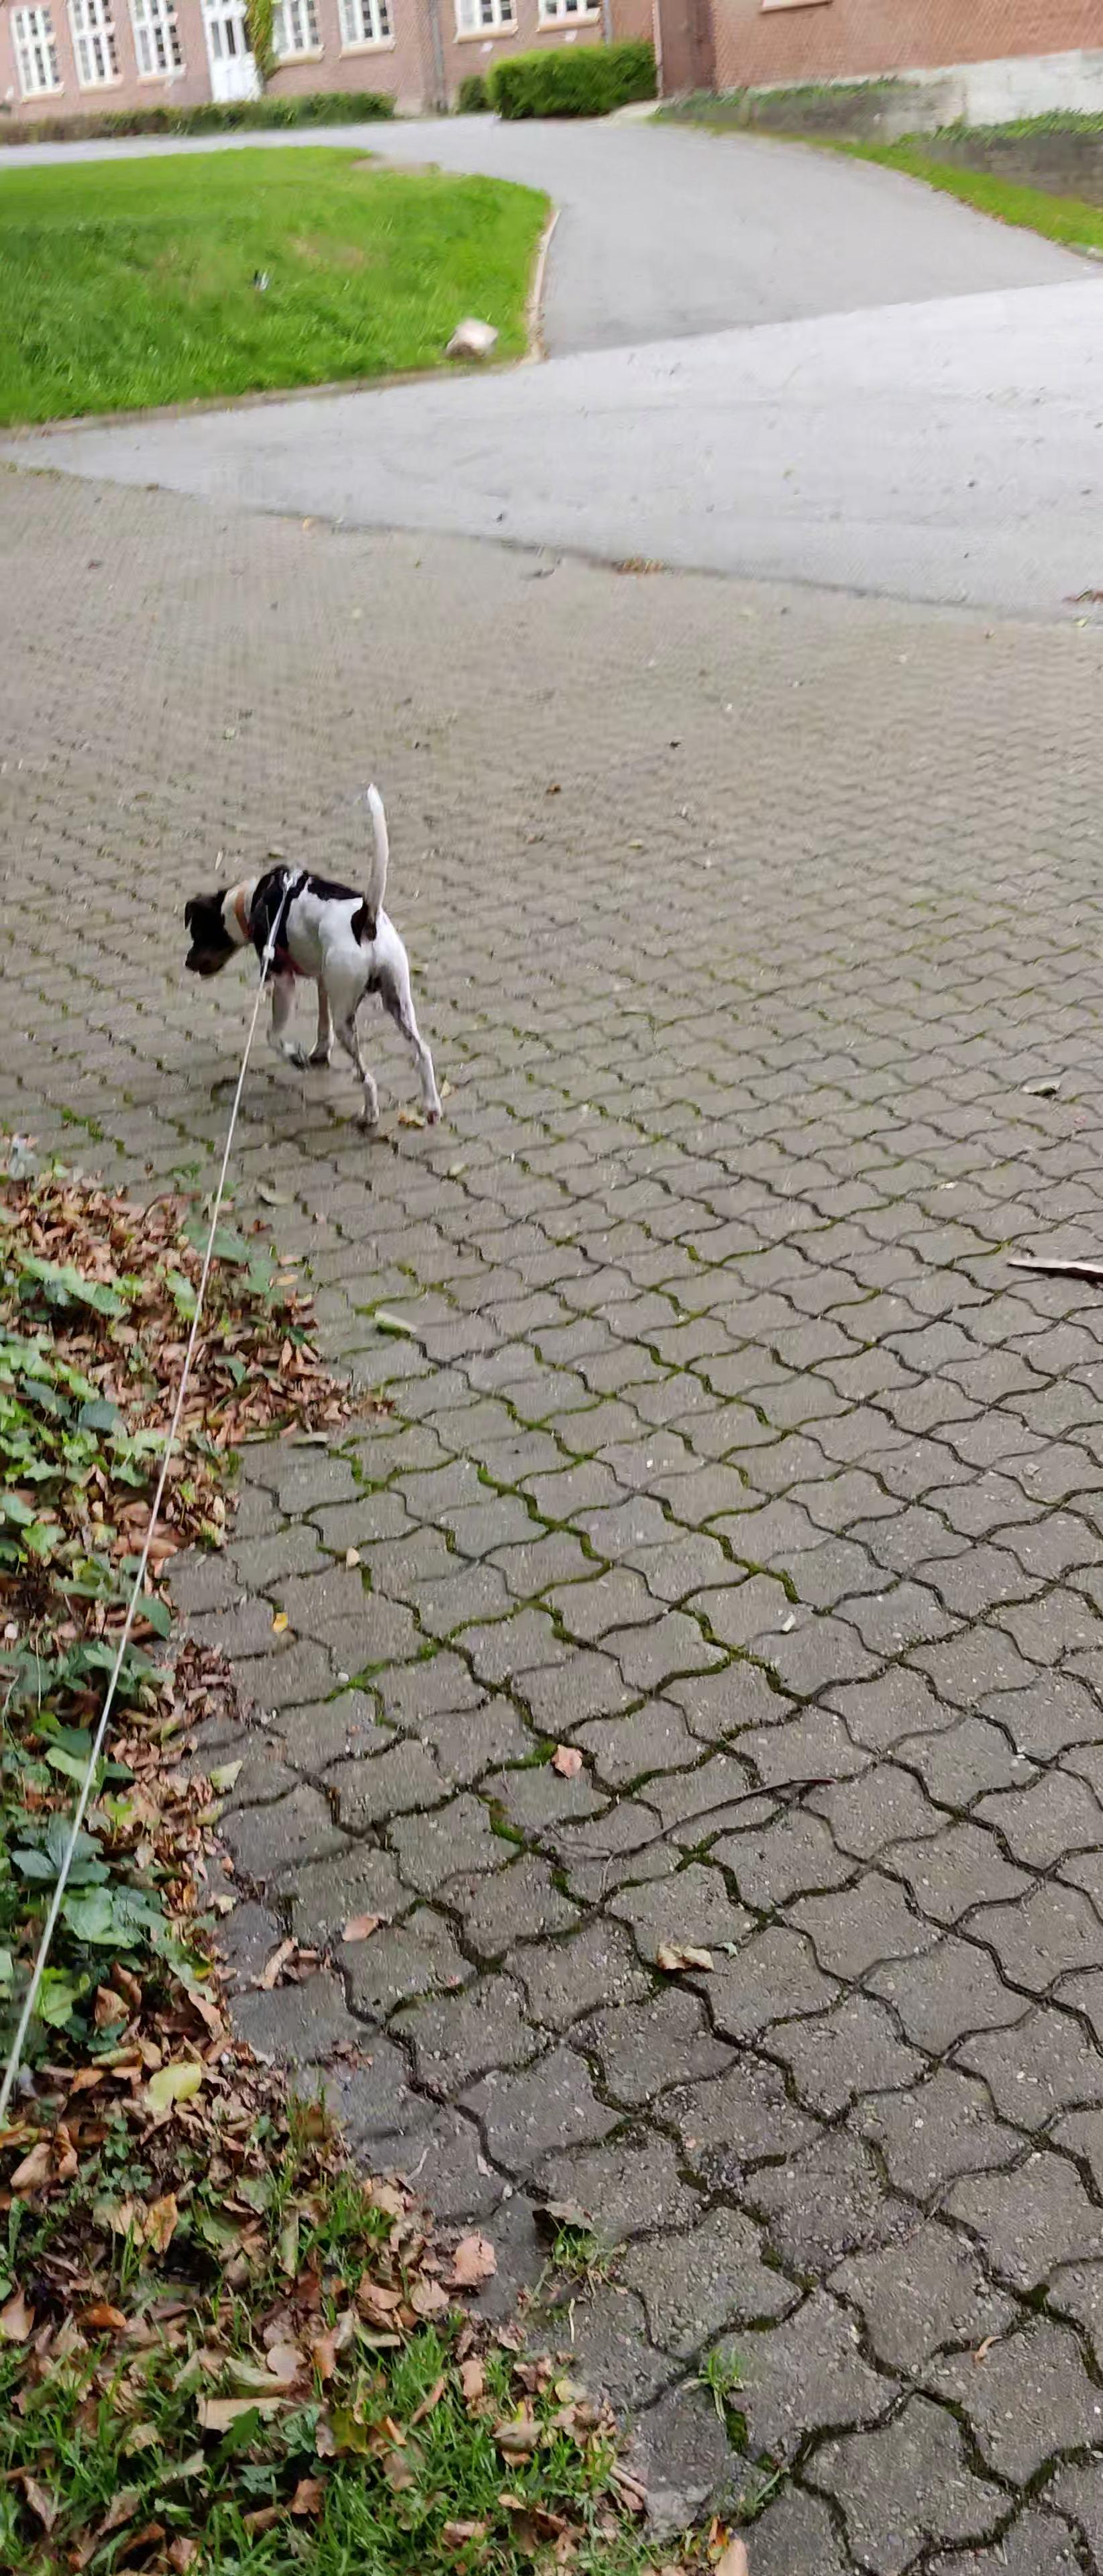Dog: (164, 775, 470, 1145)
